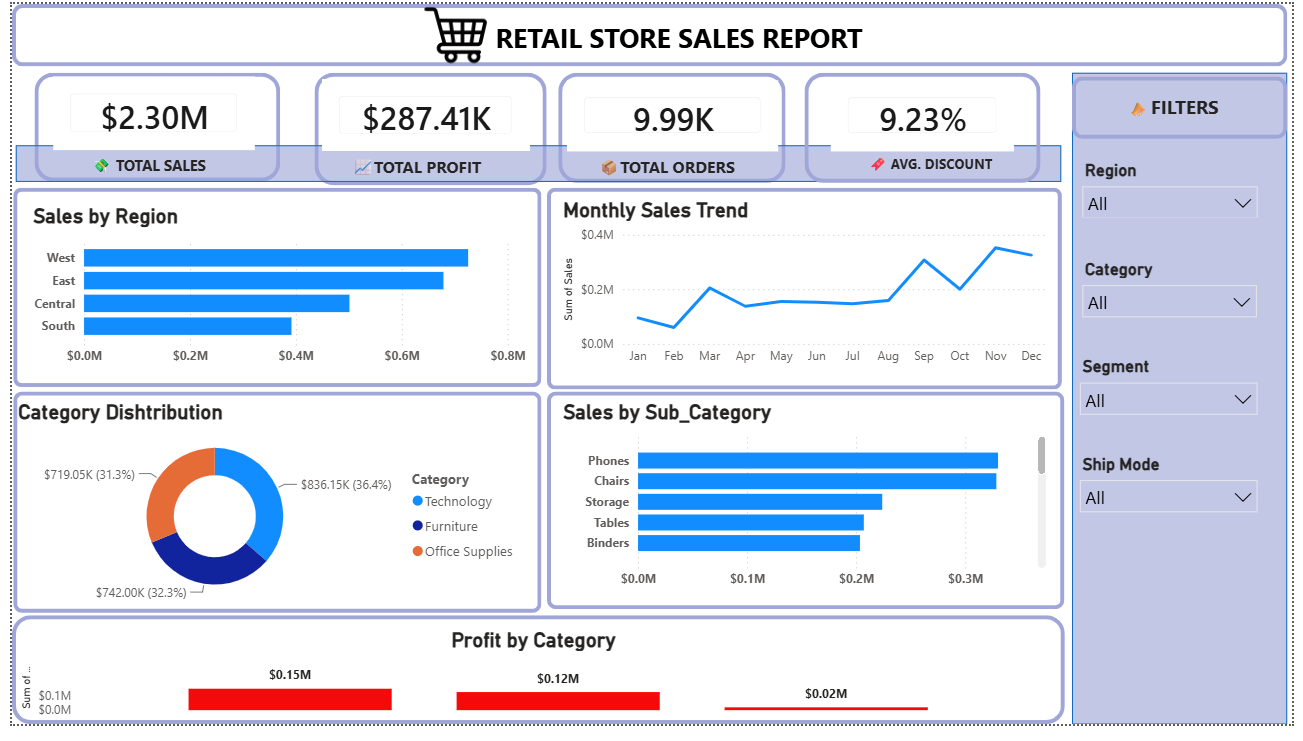

The page's visual inventory and layout, read from the dashboard file:
{"tool":"powerbi","page":{"name":"REPORT","canvas":[1280,720],"ordinal":0},"visuals":[{"type":"textbox","box":[281.3,9.8,771.6,52.6],"z":0},{"type":"shape","box":[302,68.5,232.3,112.5],"z":1000},{"type":"shape","box":[22,68.5,245.8,108.8],"z":2000},{"type":"shape","box":[546.6,68.5,227.4,110.1],"z":3000},{"type":"shape","box":[3.7,140.6,1045.5,36.7],"z":4000},{"type":"shape","box":[1060.2,68.5,215.2,651.8],"z":5000},{"type":"shape","box":[0,0,1275.4,62.4],"z":6000},{"type":"shape","box":[1.2,183.4,528.3,199.3],"z":7000},{"type":"shape","box":[1.2,387.6,528.3,221.3],"z":8000},{"type":"shape","box":[534.4,387.6,517.3,217.7],"z":9000},{"type":"shape","box":[534.4,183.4,514.8,201.8],"z":10000},{"type":"barChart","title":"  Sales  by Region","fields":{"Category":["Sample - Superstore.Region"],"Y":["Sum(Sample - Superstore. Sales )"]},"box":[15.9,200.5,502.6,170],"z":11000},{"type":"donutChart","title":" Category Dishtribution","fields":{"Category":["Sample - Superstore.Category"],"Y":["Sum(Sample - Superstore. Sales )"]},"box":[1.2,396.2,513.6,209.1],"z":12000},{"type":"clusteredBarChart","title":" Sales  by Sub_Category","fields":{"Category":["Sample - Superstore.Sub_Category"],"Y":["Sum(Sample - Superstore. Sales )"]},"box":[546.6,396.2,492.8,196.9],"z":14000},{"type":"slicer","fields":{"Values":["Sample - Superstore.Region"]},"box":[1060.2,151.6,195.7,62.4],"z":15000},{"type":"slicer","fields":{"Values":["Sample - Superstore.Category"]},"box":[1060.2,249.5,194.4,73.4],"z":16000},{"type":"slicer","fields":{"Values":["Sample - Superstore.Segment"]},"box":[1057.8,347.3,198.1,97.8],"z":17000},{"type":"textbox","box":[59.9,146.7,182.2,117.4],"z":18000},{"type":"textbox","box":[335.1,146.7,245.8,67.3],"z":19000},{"type":"textbox","box":[580.8,146.7,209.1,70.9],"z":20000},{"type":"shape","box":[0,611.4,1052.9,108.8],"z":21000},{"type":"shape","box":[1060.2,72.1,215.2,62.4],"z":22000},{"type":"slicer","fields":{"Values":["Sample - Superstore.Ship_Mode"]},"box":[1057.8,445.1,198.1,132.1],"z":23000},{"type":"shape","box":[792.4,68.5,236,110.1],"z":24000},{"type":"textbox","box":[1096.9,84.4,137,40.4],"z":25000},{"type":"textbox","box":[843.8,146.7,141.8,36.7],"z":26000},{"type":"image","box":[341.2,0,205.4,62.4],"z":27000},{"type":"clusteredColumnChart","title":" Profit by Category","fields":{"Y":["Sum(Sample - Superstore.Profit)"],"Category":["Sample - Superstore.Category"]},"box":[3.7,623.6,1035.7,96.6],"z":28000},{"type":"cardVisual","fields":{"Data":["Sum(Sample - Superstore. Sales )"]},"box":[41.2,72.5,201.2,73.8],"z":29000},{"type":"cardVisual","fields":{"Data":["Sum(Sample - Superstore.Profit)"]},"box":[310.6,74.6,207.9,72.1],"z":30000},{"type":"cardVisual","fields":{"Data":["Sample - Superstore.total_orders"]},"box":[555.2,75.8,211.6,70.9],"z":31000},{"type":"cardVisual","fields":{"Data":["Avg(Sample - Superstore.Discount)"]},"box":[819.3,75.8,183.4,70.9],"z":32000},{"type":"lineChart","title":"Monthly Sales Trend","fields":{"Category":["Sample - Superstore.month"],"Y":["Sum(Sample - Superstore. Sales )"]},"box":[546.2,193.8,492.5,176.2],"z":32001}]}

Visuals, with their boxes in screenshot pixels (x1, y1, x2, y2), scaled from the page's 1280x720 canvas onto the 1303x741 screenshot:
textbox: pyautogui.locateOnScreen(286, 10, 1072, 64)
shape: pyautogui.locateOnScreen(307, 70, 544, 186)
shape: pyautogui.locateOnScreen(22, 70, 273, 182)
shape: pyautogui.locateOnScreen(556, 70, 788, 184)
shape: pyautogui.locateOnScreen(4, 145, 1068, 182)
shape: pyautogui.locateOnScreen(1079, 70, 1298, 740)
shape: pyautogui.locateOnScreen(0, 0, 1298, 64)
shape: pyautogui.locateOnScreen(1, 189, 539, 394)
shape: pyautogui.locateOnScreen(1, 399, 539, 627)
shape: pyautogui.locateOnScreen(544, 399, 1071, 623)
shape: pyautogui.locateOnScreen(544, 189, 1068, 396)
"  Sales  by Region" barChart: pyautogui.locateOnScreen(16, 206, 528, 381)
" Category Dishtribution" donutChart: pyautogui.locateOnScreen(1, 408, 524, 623)
" Sales  by Sub_Category" clusteredBarChart: pyautogui.locateOnScreen(556, 408, 1058, 610)
slicer - Sample - Superstore.Region: pyautogui.locateOnScreen(1079, 156, 1278, 220)
slicer - Sample - Superstore.Category: pyautogui.locateOnScreen(1079, 257, 1277, 332)
slicer - Sample - Superstore.Segment: pyautogui.locateOnScreen(1077, 357, 1278, 458)
textbox: pyautogui.locateOnScreen(61, 151, 246, 272)
textbox: pyautogui.locateOnScreen(341, 151, 591, 220)
textbox: pyautogui.locateOnScreen(591, 151, 804, 224)
shape: pyautogui.locateOnScreen(0, 629, 1072, 740)
shape: pyautogui.locateOnScreen(1079, 74, 1298, 138)
slicer - Sample - Superstore.Ship_Mode: pyautogui.locateOnScreen(1077, 458, 1278, 594)
shape: pyautogui.locateOnScreen(807, 70, 1047, 184)
textbox: pyautogui.locateOnScreen(1117, 87, 1256, 128)
textbox: pyautogui.locateOnScreen(859, 151, 1003, 189)
image: pyautogui.locateOnScreen(347, 0, 556, 64)
" Profit by Category" clusteredColumnChart: pyautogui.locateOnScreen(4, 642, 1058, 740)
cardVisual - Sum(Sample - Superstore. Sales ): pyautogui.locateOnScreen(42, 75, 247, 151)
cardVisual - Sum(Sample - Superstore.Profit): pyautogui.locateOnScreen(316, 77, 528, 151)
cardVisual - Sample - Superstore.total_orders: pyautogui.locateOnScreen(565, 78, 781, 151)
cardVisual - Avg(Sample - Superstore.Discount): pyautogui.locateOnScreen(834, 78, 1021, 151)
"Monthly Sales Trend" lineChart: pyautogui.locateOnScreen(556, 199, 1057, 381)
